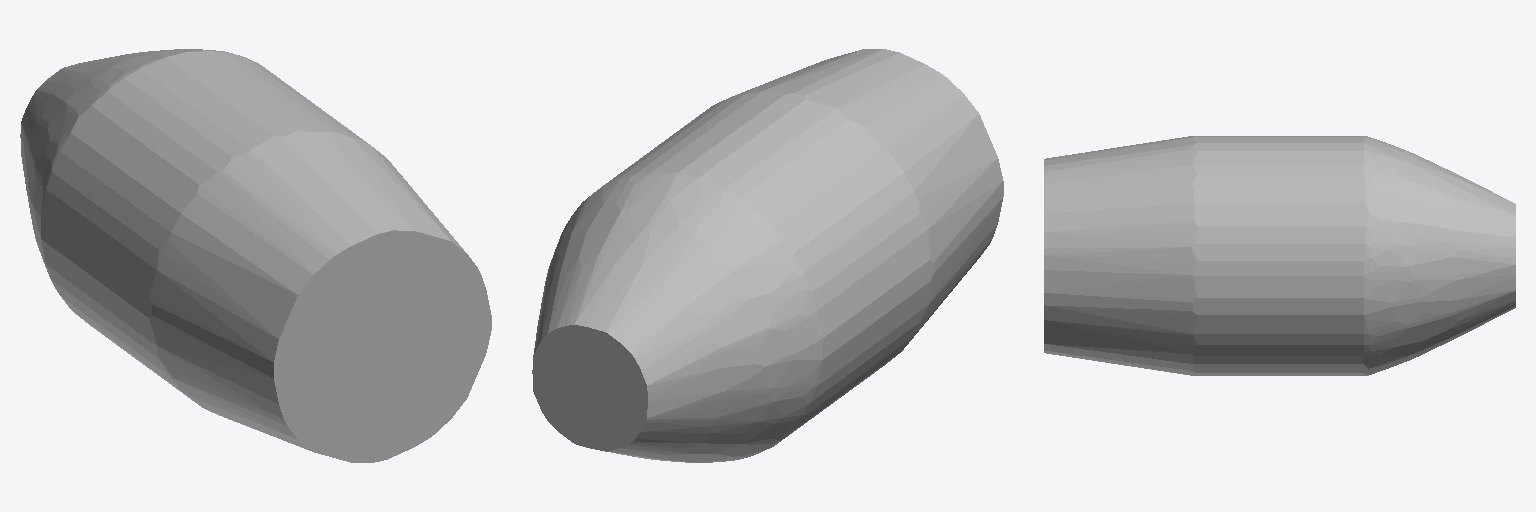
URDF robot description (root):
<robot name="root">
  <mujoco>
    <compiler meshdir="." balanceinertia="true" discardvisual="false" strippath="true" />
  </mujoco>
  <link name="link_coacd_convex_piece_0">
    <inertial>
      <mass value="0.032" />
      <origin xyz="0 0 0" rpy="0 0 0"/>
      <inertia ixx="4.29E-02" ixy="-4.38E-07" ixz="-3.37E-07" iyy="2.66E-03" iyz="-1.94E-07" izz="4.29E-02"/>
    </inertial>
    <visual>
      <origin xyz="0 0 0" rpy="0 0 0"/>
      <geometry>
        <mesh filename="coacd_convex_piece_0.obj" scale="1.0000E+00 1.0000E+00 1.0000E+00"/>
      </geometry>
      <material name="">
        <color rgba="7.50E-01 7.50E-01 7.50E-01 1"/>
      </material>
    </visual>
    <collision>
      <origin xyz="0 0 0" rpy="0 0 0"/>
      <geometry>
        <mesh filename="coacd_convex_piece_0.obj" scale="1.0000E+00 1.0000E+00 1.0000E+00"/>
      </geometry>
    </collision>
  </link>
  <link name="link_coacd_convex_piece_1">
    <inertial>
      <mass value="0.032" />
      <origin xyz="0 0 0" rpy="0 0 0"/>
      <inertia ixx="6.67E-03" ixy="-3.31E-06" ixz="-1.55E-06" iyy="5.40E-03" iyz="-3.50E-06" izz="6.67E-03"/>
    </inertial>
    <visual>
      <origin xyz="0 0 0" rpy="0 0 0"/>
      <geometry>
        <mesh filename="coacd_convex_piece_1.obj" scale="1.0000E+00 1.0000E+00 1.0000E+00"/>
      </geometry>
      <material name="">
        <color rgba="7.50E-01 7.50E-01 7.50E-01 1"/>
      </material>
    </visual>
    <collision>
      <origin xyz="0 0 0" rpy="0 0 0"/>
      <geometry>
        <mesh filename="coacd_convex_piece_1.obj" scale="1.0000E+00 1.0000E+00 1.0000E+00"/>
      </geometry>
    </collision>
  </link>
  <joint name="link_coacd_convex_piece_1_joint" type="fixed">
    <origin xyz="0 0 0" rpy="0 0 0"/>
    <parent link="link_coacd_convex_piece_0"/>
    <child link="link_coacd_convex_piece_1"/>
  </joint>
  <link name="link_coacd_convex_piece_2">
    <inertial>
      <mass value="0.032" />
      <origin xyz="0 0 0" rpy="0 0 0"/>
      <inertia ixx="3.79E-03" ixy="-1.01E-07" ixz="3.77E-08" iyy="2.51E-05" iyz="-7.76E-08" izz="3.79E-03"/>
    </inertial>
    <visual>
      <origin xyz="0 0 0" rpy="0 0 0"/>
      <geometry>
        <mesh filename="coacd_convex_piece_2.obj" scale="1.0000E+00 1.0000E+00 1.0000E+00"/>
      </geometry>
      <material name="">
        <color rgba="7.50E-01 7.50E-01 7.50E-01 1"/>
      </material>
    </visual>
    <collision>
      <origin xyz="0 0 0" rpy="0 0 0"/>
      <geometry>
        <mesh filename="coacd_convex_piece_2.obj" scale="1.0000E+00 1.0000E+00 1.0000E+00"/>
      </geometry>
    </collision>
  </link>
  <joint name="link_coacd_convex_piece_2_joint" type="fixed">
    <origin xyz="0 0 0" rpy="0 0 0"/>
    <parent link="link_coacd_convex_piece_1"/>
    <child link="link_coacd_convex_piece_2"/>
  </joint>
  <link name="link_coacd_convex_piece_3">
    <inertial>
      <mass value="0.032" />
      <origin xyz="0 0 0" rpy="0 0 0"/>
      <inertia ixx="1.54E-03" ixy="-2.43E-07" ixz="-7.06E-09" iyy="2.40E-05" iyz="-2.91E-07" izz="1.54E-03"/>
    </inertial>
    <visual>
      <origin xyz="0 0 0" rpy="0 0 0"/>
      <geometry>
        <mesh filename="coacd_convex_piece_3.obj" scale="1.0000E+00 1.0000E+00 1.0000E+00"/>
      </geometry>
      <material name="">
        <color rgba="7.50E-01 7.50E-01 7.50E-01 1"/>
      </material>
    </visual>
    <collision>
      <origin xyz="0 0 0" rpy="0 0 0"/>
      <geometry>
        <mesh filename="coacd_convex_piece_3.obj" scale="1.0000E+00 1.0000E+00 1.0000E+00"/>
      </geometry>
    </collision>
  </link>
  <joint name="link_coacd_convex_piece_3_joint" type="fixed">
    <origin xyz="0 0 0" rpy="0 0 0"/>
    <parent link="link_coacd_convex_piece_2"/>
    <child link="link_coacd_convex_piece_3"/>
  </joint>
</robot>

--- Render facts (derived) ---
Views: 3 orthographic renders of the robot side by side, from view 1: azimuth 30°, elevation 25°; view 2: azimuth 150°, elevation 25°; view 3: azimuth 270°, elevation 25°.
Model root with 4 links and 3 joints (3 fixed), rooted at link_coacd_convex_piece_0, posed every joint at zero.
Links seen in each view (by area): view 1: link_coacd_convex_piece_1; view 2: link_coacd_convex_piece_1; view 3: link_coacd_convex_piece_1.
Link boxes in pixels (box(x1,y1,x2,y2)): link_coacd_convex_piece_1: box(20, 49, 491, 462); link_coacd_convex_piece_1: box(532, 49, 1003, 462); link_coacd_convex_piece_1: box(1044, 136, 1515, 375).
Bounding box of the posed robot: 0.5388 × 1.05 × 0.5388 m (x, y, z).
1 mesh visuals loaded from 4 distinct referenced files (1 OBJ); not drawn: 3 (reference not matched to a file when rendering).